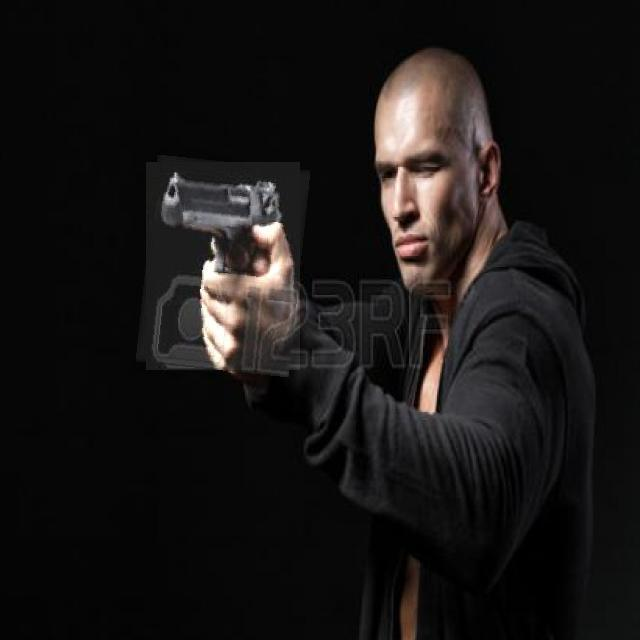handgun: (141, 158, 305, 374)
